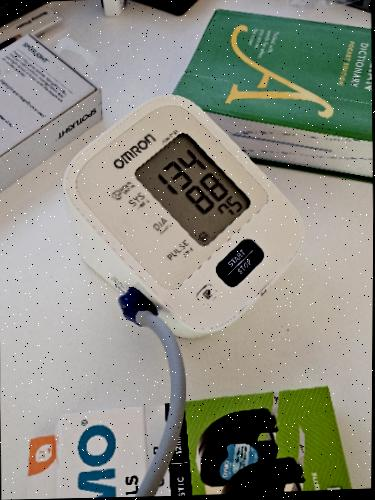bpm: (131, 126, 253, 250)
